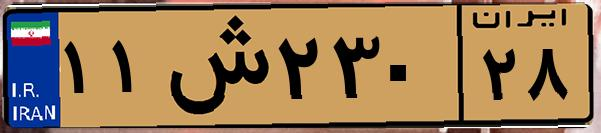0: (385, 28, 445, 110)
1: (57, 26, 110, 100), (110, 28, 158, 98)
2: (270, 28, 330, 110), (475, 38, 525, 113)
3: (330, 28, 385, 110)
8: (525, 38, 570, 115)
ش: (158, 12, 270, 120)
